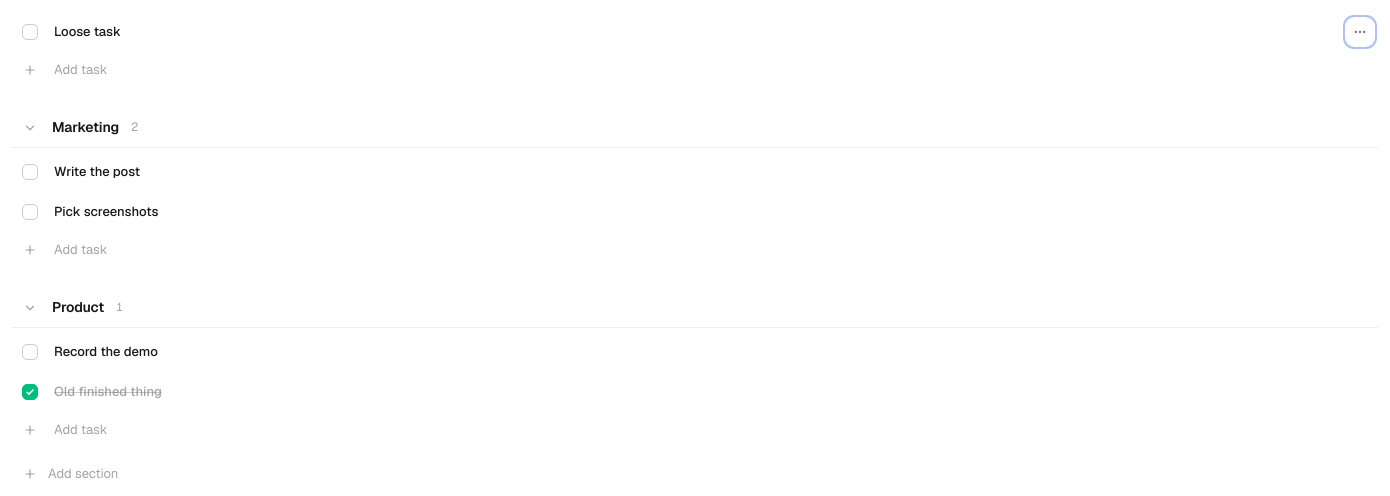
rows › deletes from the row menu at once, and for good once the undo window passes
Press Enter in the button named "Actions for “Loose task”", box [1346, 18, 1374, 46]
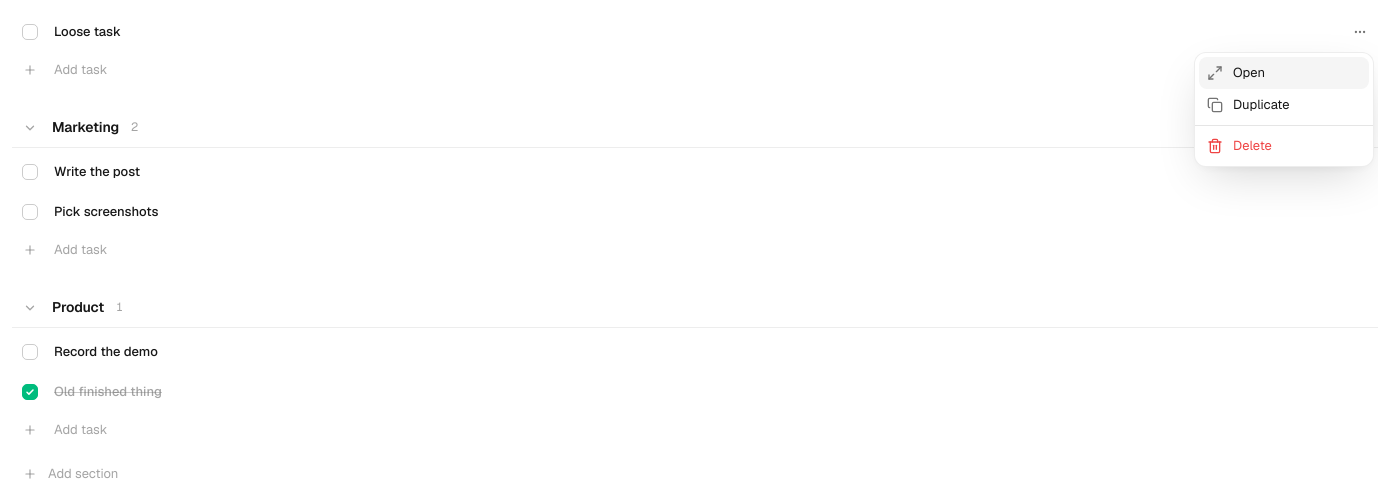
Click the menu item "Delete": coordinates (1239, 146) [1207, 137, 1272, 154]
Wait 5000 ms
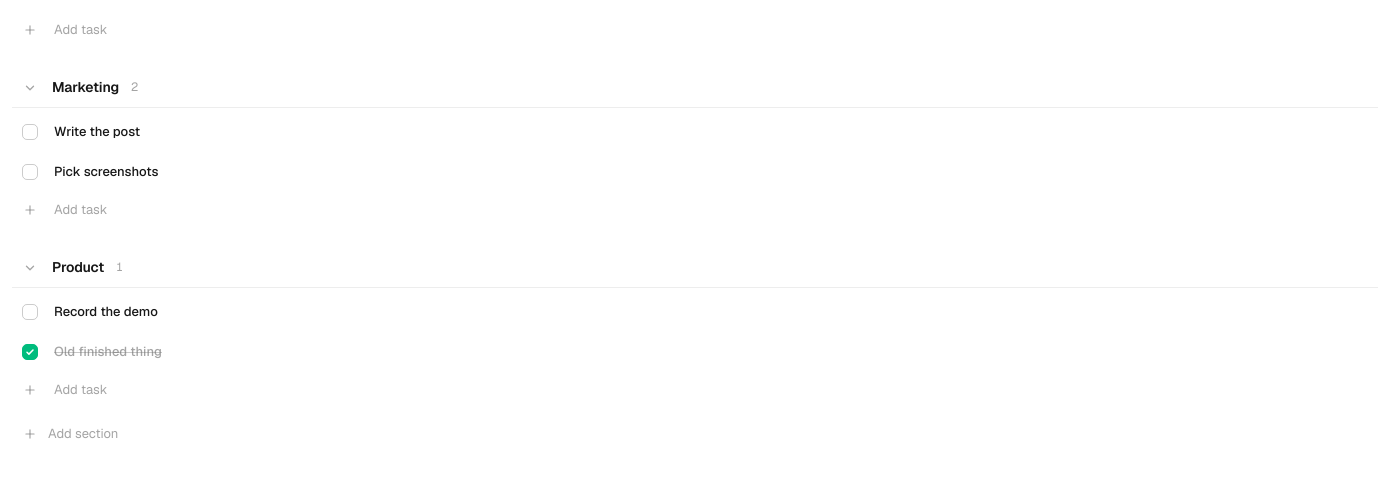
Expected: the text "Loose task" is gone
